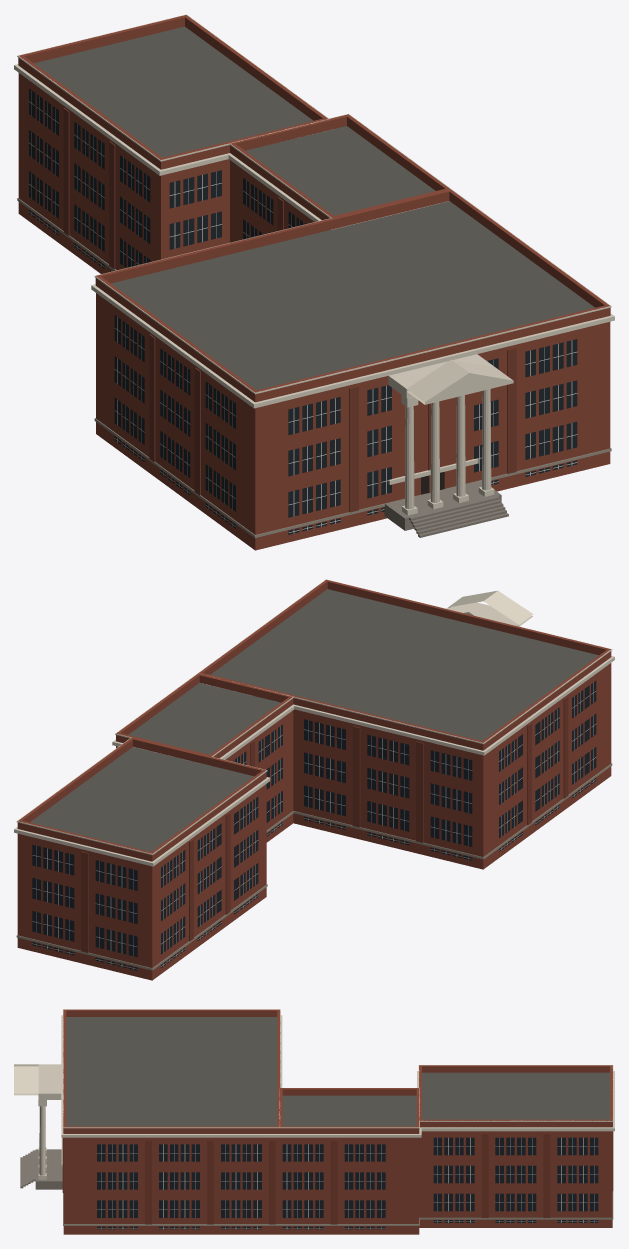
Rendered from argenta-high-school.glb.
The picture shows the model from 3 angles, top to bottom: view 1: azimuth 30°, elevation 25°; view 2: azimuth 150°, elevation 25°; view 3: azimuth 270°, elevation 25°; orthographic projection. The views are drawn at different scales.
Parts seen in each view (by area): view 1: kit-argenta-high-school; view 2: kit-argenta-high-school; view 3: kit-argenta-high-school.
Boxes of the visible parts, left/top/right/bottom form: kit-argenta-high-school: left=14, top=14, right=614, bottom=550; kit-argenta-high-school: left=14, top=579, right=614, bottom=980; kit-argenta-high-school: left=14, top=1009, right=614, bottom=1234.
Bounding box in the file's own units: 36.6 × 15.6 × 77.7.
